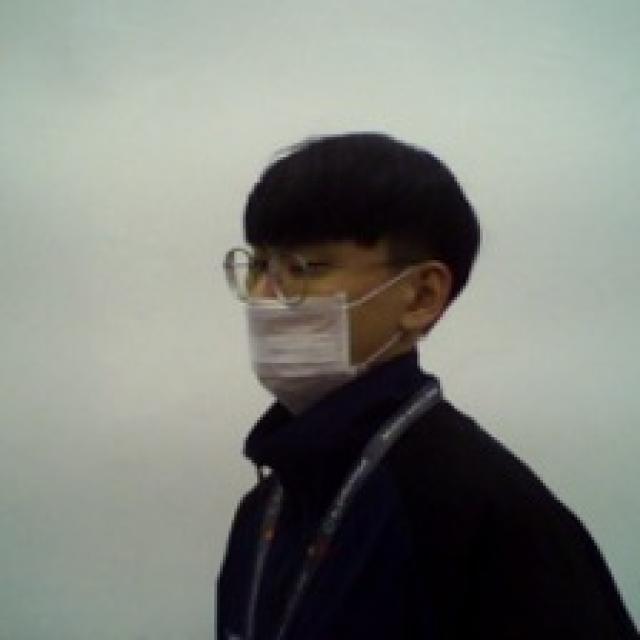mask: (233, 256, 447, 402)
no_gloves: (243, 126, 483, 290)
